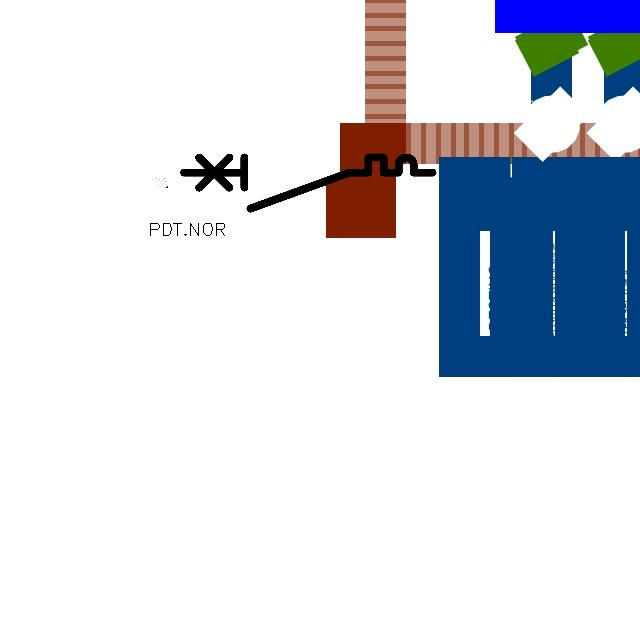interruptor_termomagnetico: (177, 151, 438, 215)
